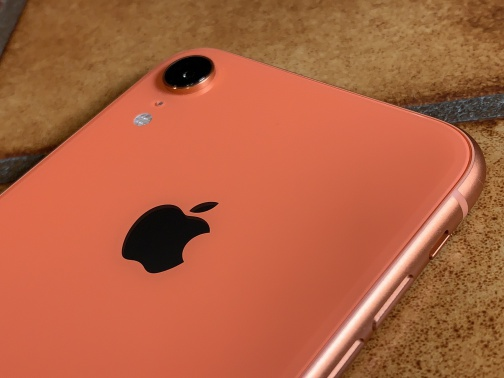apple: (95, 167, 259, 292)
